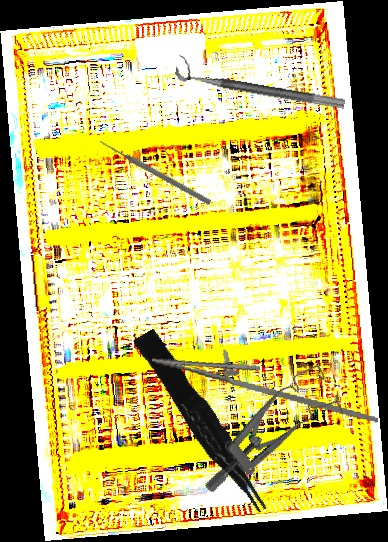Fixation Ring: (174, 54, 348, 110)
Needle Holder: (147, 339, 385, 424)
Pusher: (97, 137, 213, 207)
Speculum: (178, 360, 354, 497)
Tissue Forceps: (132, 323, 272, 523)
